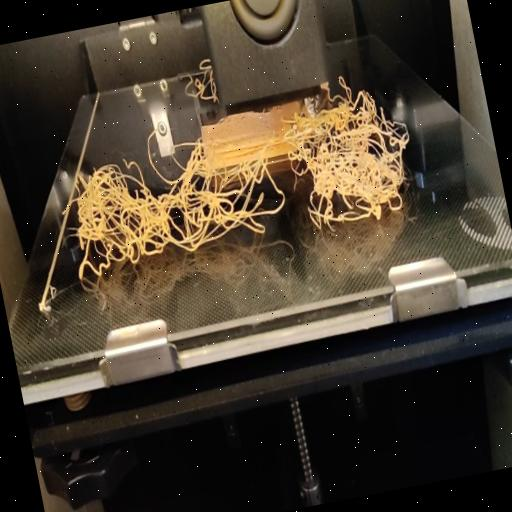spaghetti: (45, 70, 430, 296), (180, 58, 220, 108)
